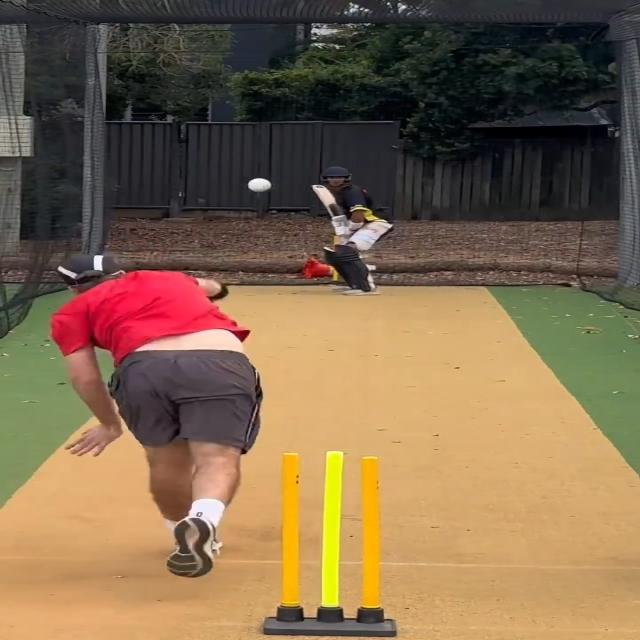ball: (244, 175, 275, 195)
stump: (272, 450, 397, 635)
